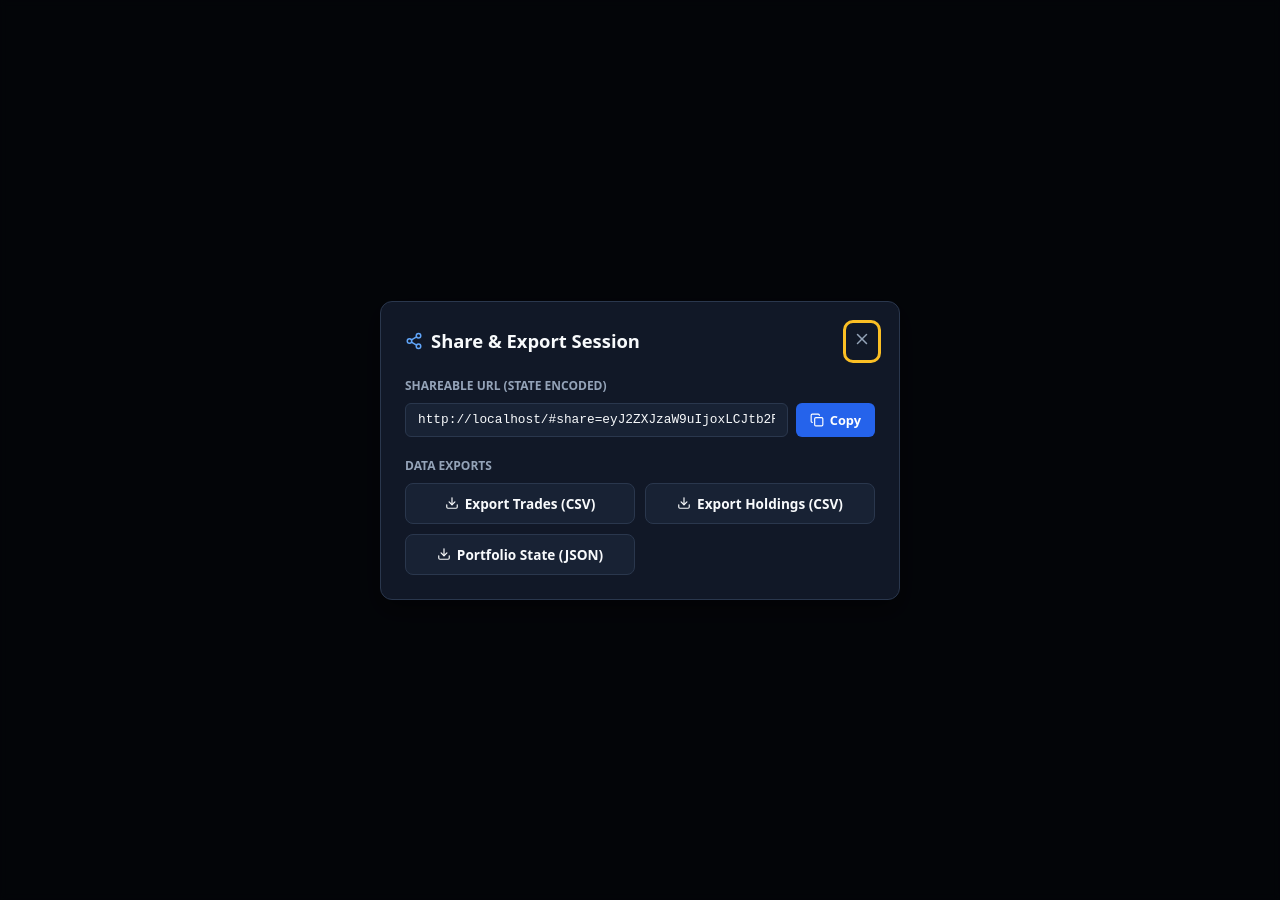
Test: clipboard and crash recovery › awaits clipboard rejection and presents manual-copy instructions
Click the button "Copy" at (835, 420), box [796, 402, 875, 436]
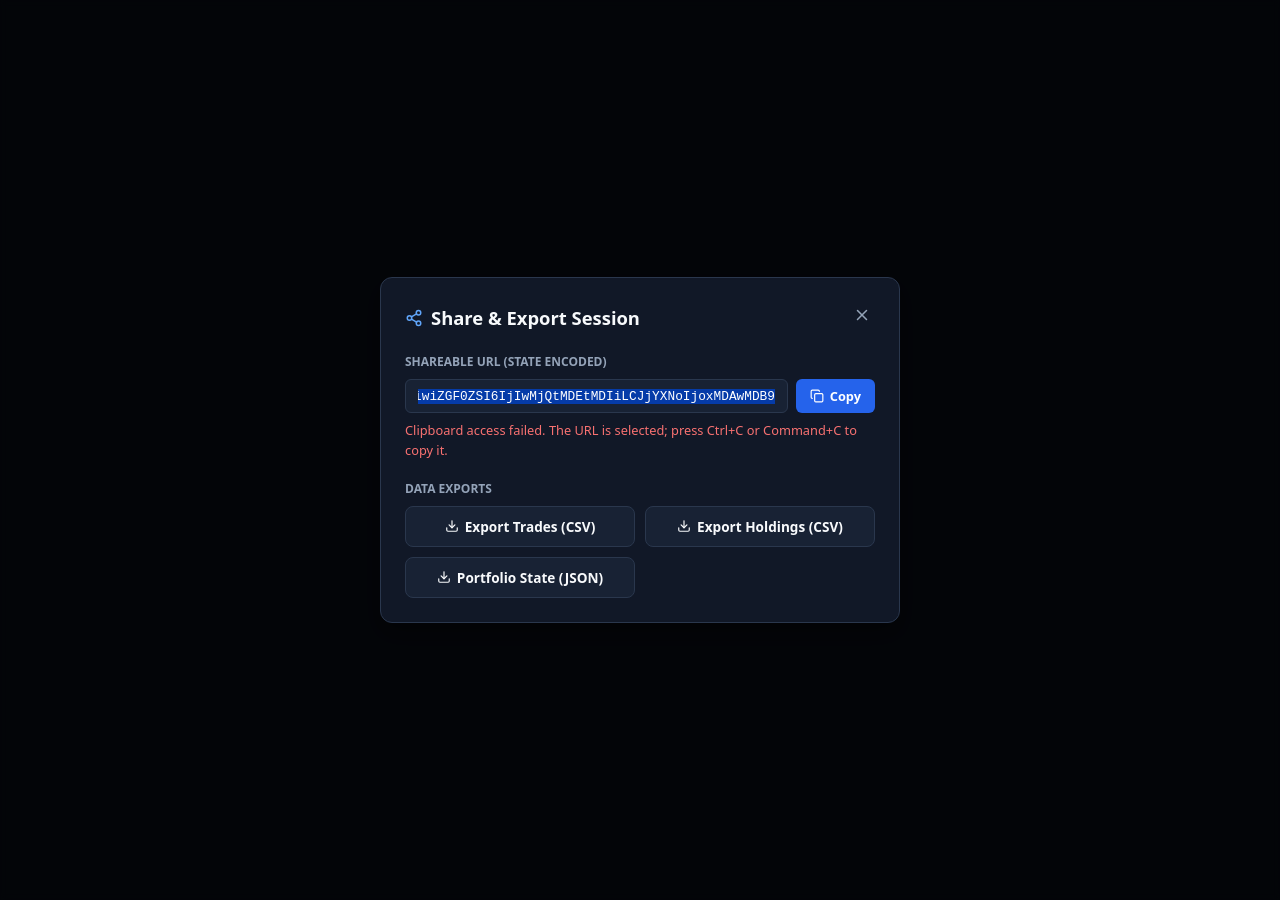
Now the text "press Ctrl+C or Command+C" is shown, box [405, 421, 857, 458]
